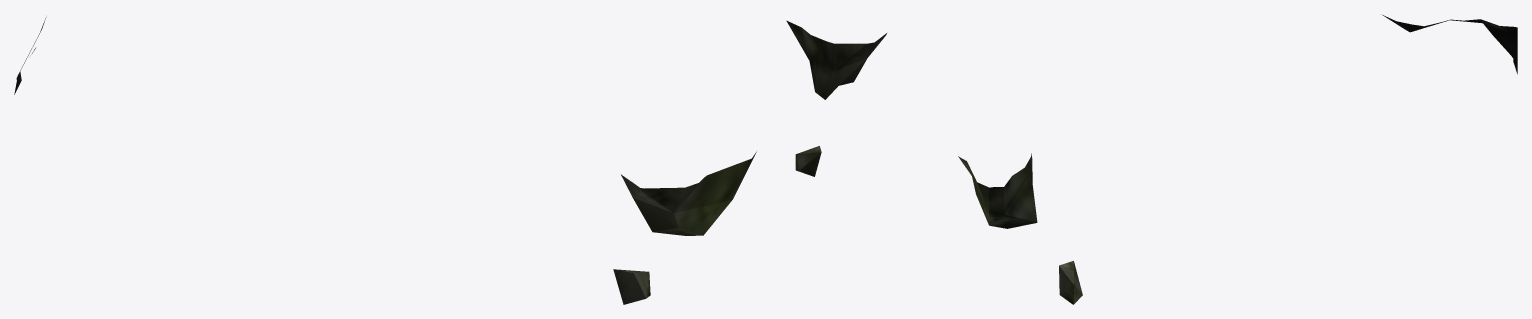
3 renders of one model, left to right at view 1: azimuth 30°, elevation 25°; view 2: azimuth 150°, elevation 25°; view 3: azimuth 270°, elevation 25°, orthographic. The views are drawn at different scales.
Size of the model in its own units: 0.6067 by 0.2328 by 0.8303.
1 material, 1 textured.
